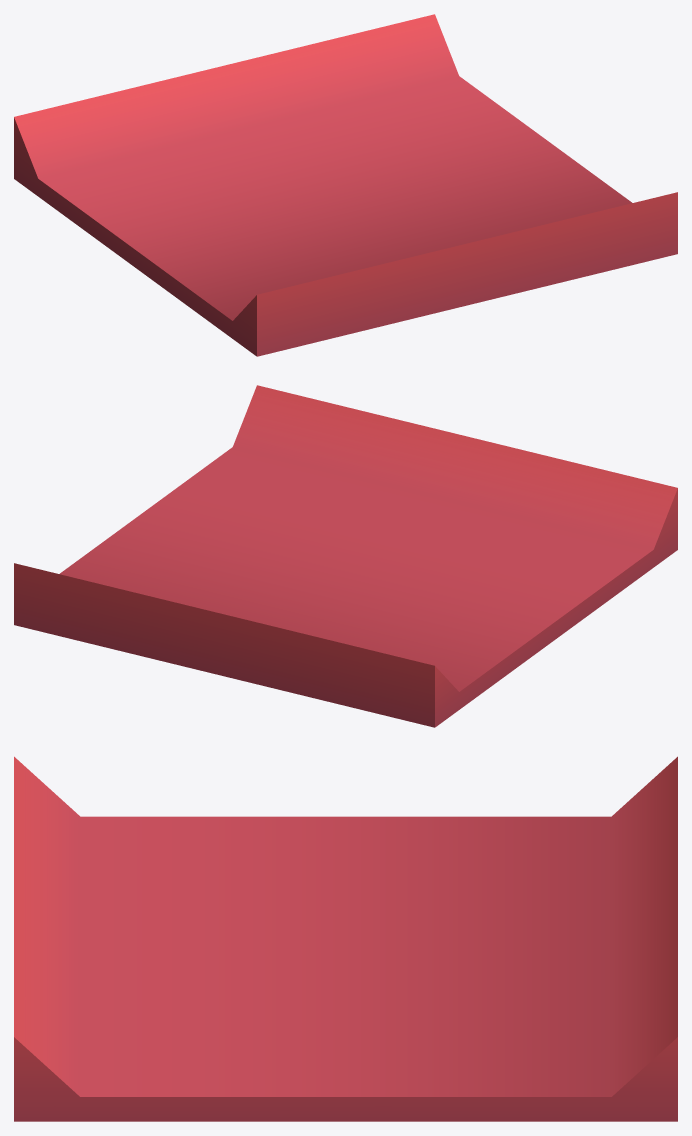
Rendered from roof-high-flat.glb.
The picture shows the model from 3 angles, top to bottom: view 1: azimuth 30°, elevation 25°; view 2: azimuth 150°, elevation 25°; view 3: azimuth 270°, elevation 25°; orthographic projection. The views are drawn at different scales.
Parts seen in each view (by area): view 1: roof-high-flat; view 2: roof-high-flat; view 3: roof-high-flat.
Boxes of the visible parts, x1=… form: roof-high-flat: x1=14, y1=14, x2=677, y2=356; roof-high-flat: x1=14, y1=385, x2=677, y2=727; roof-high-flat: x1=14, y1=756, x2=677, y2=1121.
Size of the model in its own units: 1 by 0.1407 by 1.
Materials: 1 (1 with a texture image).
